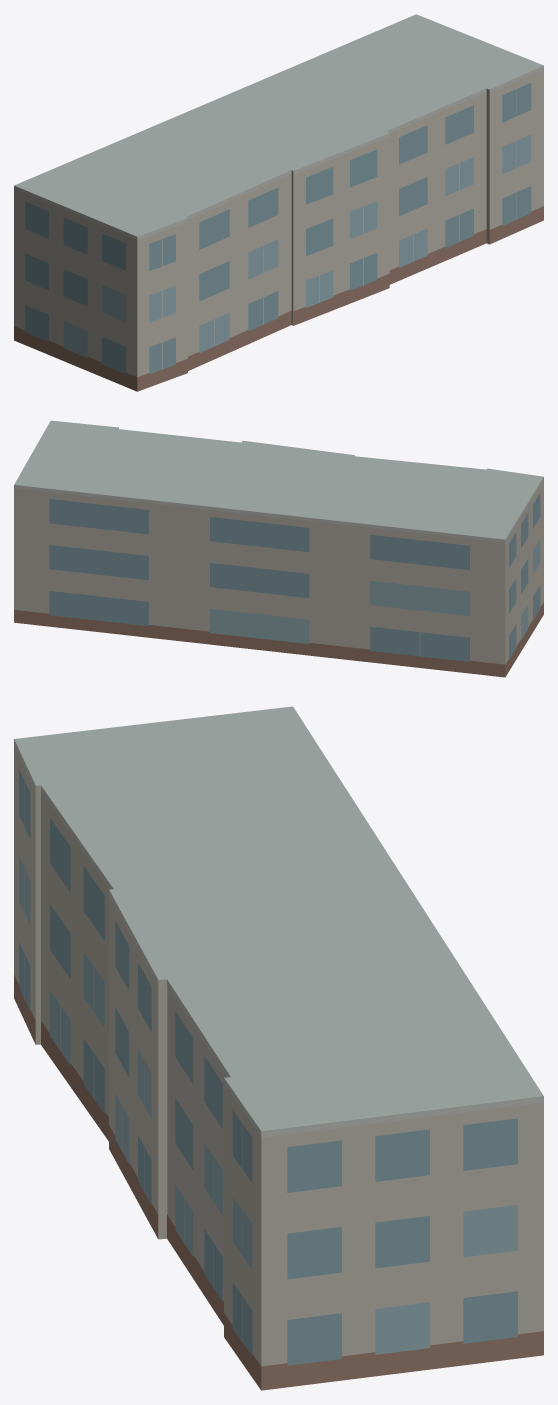
The model's file is survey-upis-32760390.glb.
3 renders of one model, top to bottom at view 1: azimuth 30°, elevation 25°; view 2: azimuth 150°, elevation 25°; view 3: azimuth 270°, elevation 25°, orthographic. The views are drawn at different scales.
Visible parts, largest first — view 1: survey-upis-32760390.tmp; view 2: survey-upis-32760390.tmp; view 3: survey-upis-32760390.tmp.
Part boxes in pixels (bbox=[...]): survey-upis-32760390.tmp: bbox=[14, 14, 543, 391]; survey-upis-32760390.tmp: bbox=[14, 420, 543, 677]; survey-upis-32760390.tmp: bbox=[14, 706, 543, 1390].
Size of the model in its own units: 36.57 by 10.4 by 19.27.
